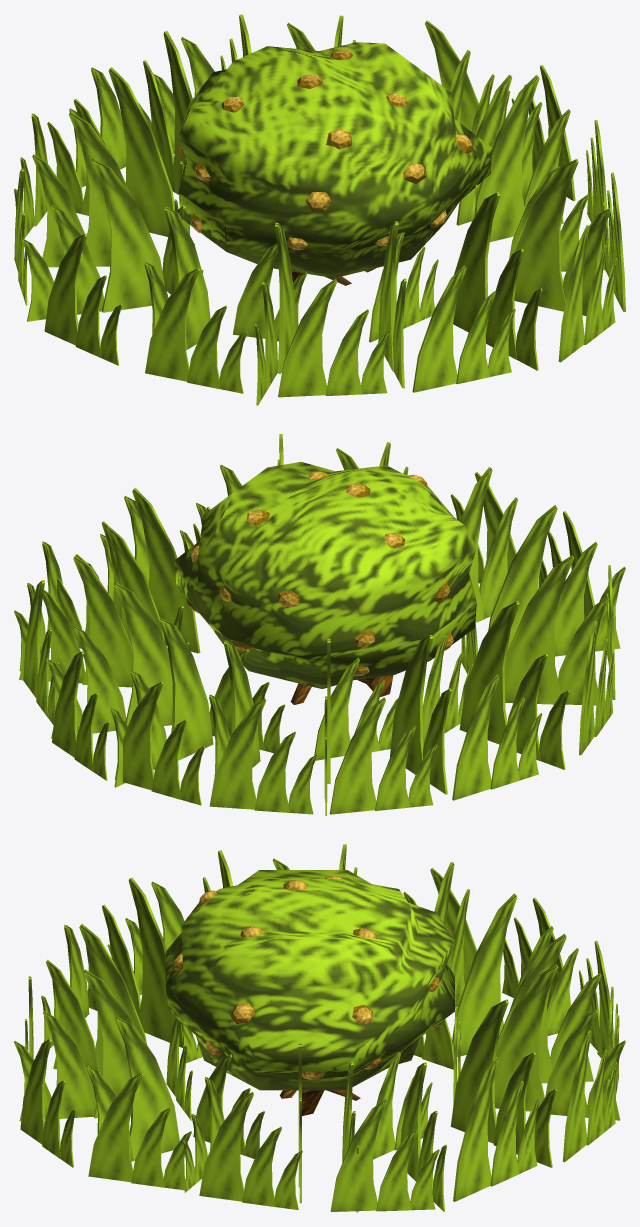
The model's file is Bush.fbx.
3 views of the same model, one above another, from view 1: azimuth 30°, elevation 25°; view 2: azimuth 150°, elevation 25°; view 3: azimuth 270°, elevation 25° (orthographic). The views are drawn at different scales.
Parts seen in each view (by area): view 1: polySurface38, pPlane84, pPlane6, pPlane88, pPlane17, pPlane55, pPlane79, pPlane61, pPlane52, pPlane103, pPlane107, pPlane58 (+48 smaller); view 2: polySurface38, pPlane107, pPlane91, pPlane17, pPlane92, pPlane84, pPlane7, pPlane43, pPlane45, pPlane85, pPlane103, pPlane50 (+43 smaller); view 3: polySurface38, pPlane91, pPlane88, pPlane6, pPlane85, pPlane92, pPlane75, pPlane72, pPlane76, pPlane64, pPlane81, pPlane79 (+47 smaller).
Boxes of the visible parts, x1,y1,x2,y2 form: polySurface38: (178, 42, 491, 285); pPlane84: (91, 158, 164, 312); pPlane6: (514, 159, 578, 311); pPlane88: (108, 67, 174, 236); pPlane17: (476, 75, 539, 242); pPlane55: (278, 278, 337, 397); pPlane79: (453, 192, 500, 338); pPlane61: (412, 265, 466, 392); pPlane52: (145, 267, 199, 381); pPlane103: (69, 111, 130, 266); pPlane107: (164, 206, 210, 350); pPlane58: (44, 233, 86, 345); polySurface38: (175, 462, 476, 704); pPlane107: (504, 555, 573, 704); pPlane91: (159, 618, 213, 760); pPlane17: (132, 487, 200, 653); pPlane92: (114, 582, 172, 726); pPlane84: (459, 601, 519, 744); pPlane7: (73, 555, 132, 687); pPlane43: (329, 697, 385, 814); pPlane45: (209, 698, 266, 809); pPlane85: (488, 505, 557, 652); pPlane103: (390, 635, 433, 774); pPlane50: (452, 674, 499, 800); polySurface38: (165, 870, 454, 1115); pPlane91: (494, 964, 558, 1111); pPlane88: (452, 893, 517, 1056); pPlane6: (115, 1016, 179, 1160); pPlane85: (128, 877, 182, 1047); pPlane92: (450, 999, 508, 1143); pPlane75: (330, 1099, 387, 1211); pPlane72: (453, 1057, 498, 1201); pPlane76: (199, 1092, 253, 1201); pPlane64: (88, 1072, 143, 1182); pPlane81: (43, 1010, 96, 1118); pPlane79: (83, 969, 131, 1118).
Size of the model in its own units: 1.98 by 0.7565 by 2.04.
